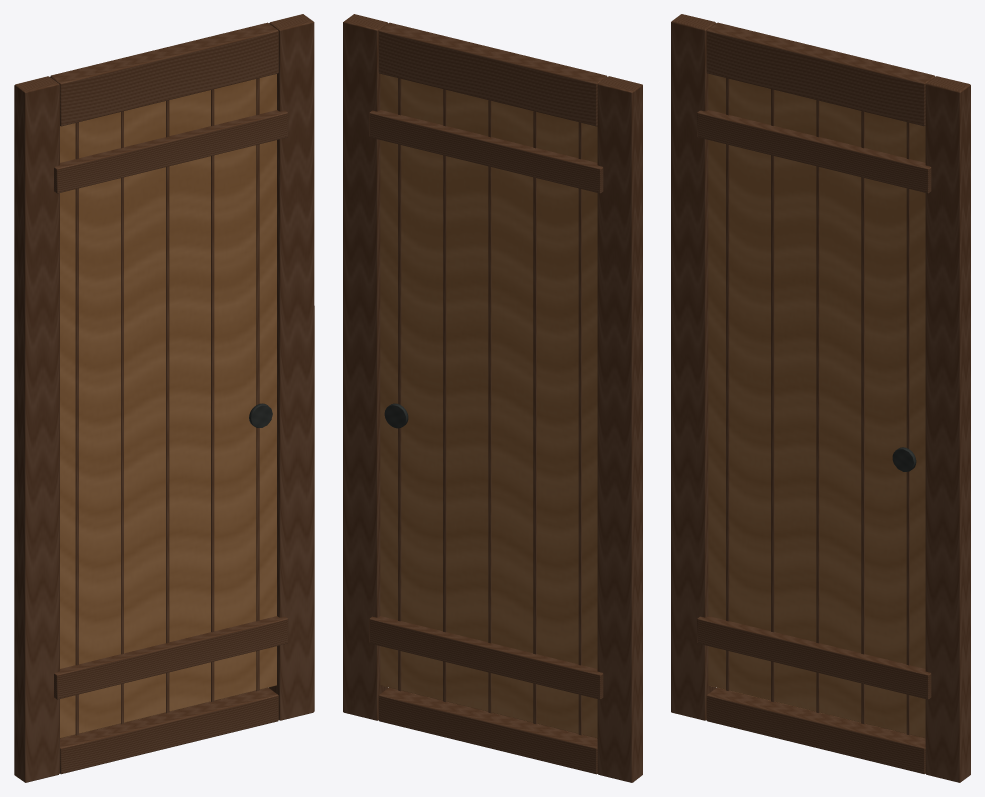
The model's file is door_wood.gltf.
3 renders of one model, left to right at view 1: azimuth 30°, elevation 25°; view 2: azimuth 150°, elevation 25°; view 3: azimuth 330°, elevation 25°, orthographic.
Bounding box in the file's own units: 0.9 × 2.05 × 0.09.
3 materials, 3 textured.
